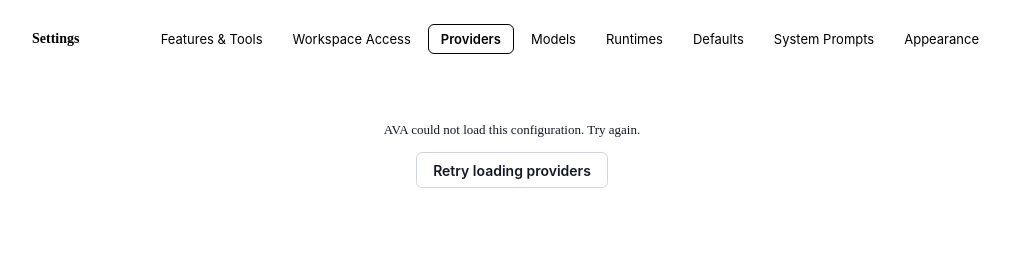
Test case: Models inventory actions › falls back to the connection id when the connection list cannot load
Click the tab "Models" at (553, 39), box [518, 24, 589, 54]
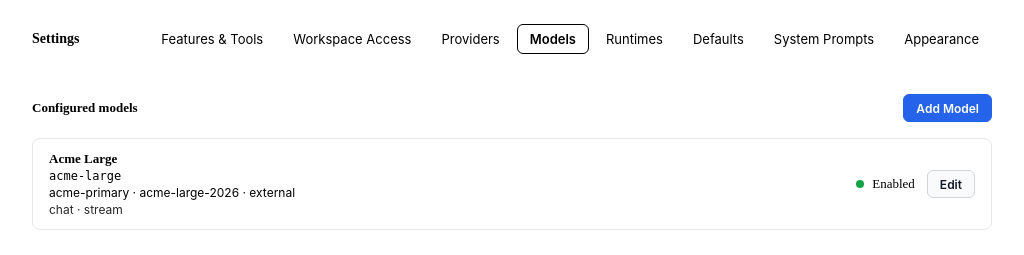
Result: the text with test id "settings-inventory-entry-meta" shows "acme-primary" at [49, 185, 295, 200]
